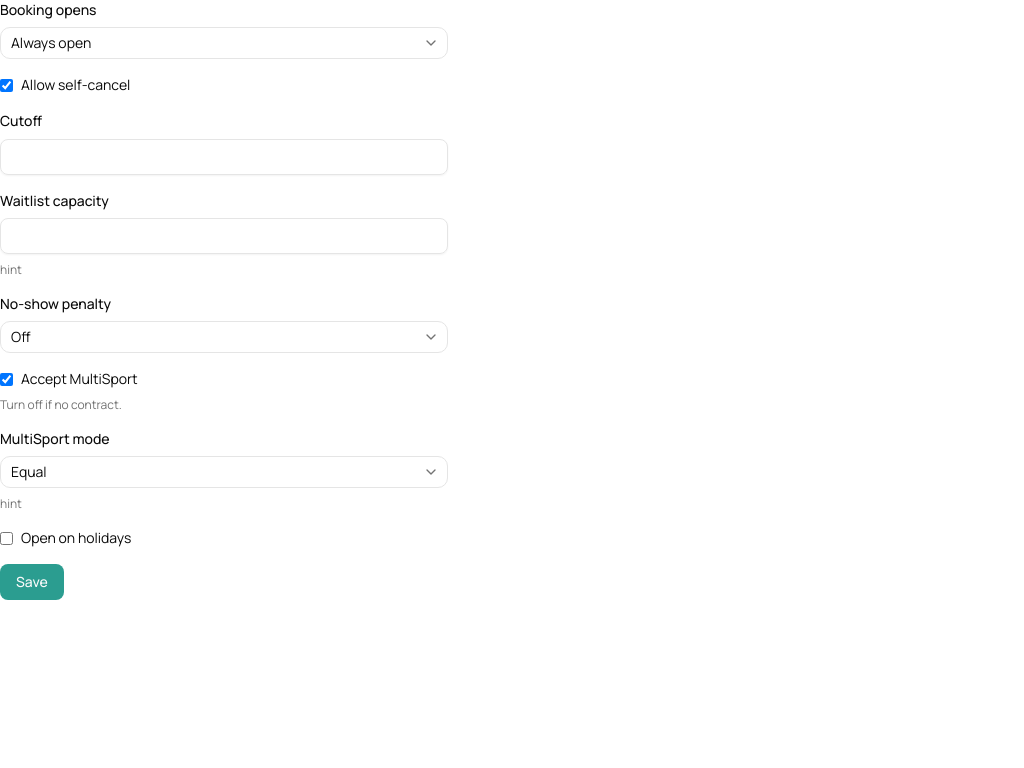
it: PoliciesForm MultiSport toggle › asks for confirmation before hiding the mode field, and does not act on the click alone
The width and height of the screenshot is (1024, 768).
Expected: the text "MultiSport mode" is shown, [0,429,110,448]
What coordinates should you click on to do the following:
click the checkbox labelled "Accept MultiSport"
I would click on:
 (6, 379)
Its box is [0,372,13,386].
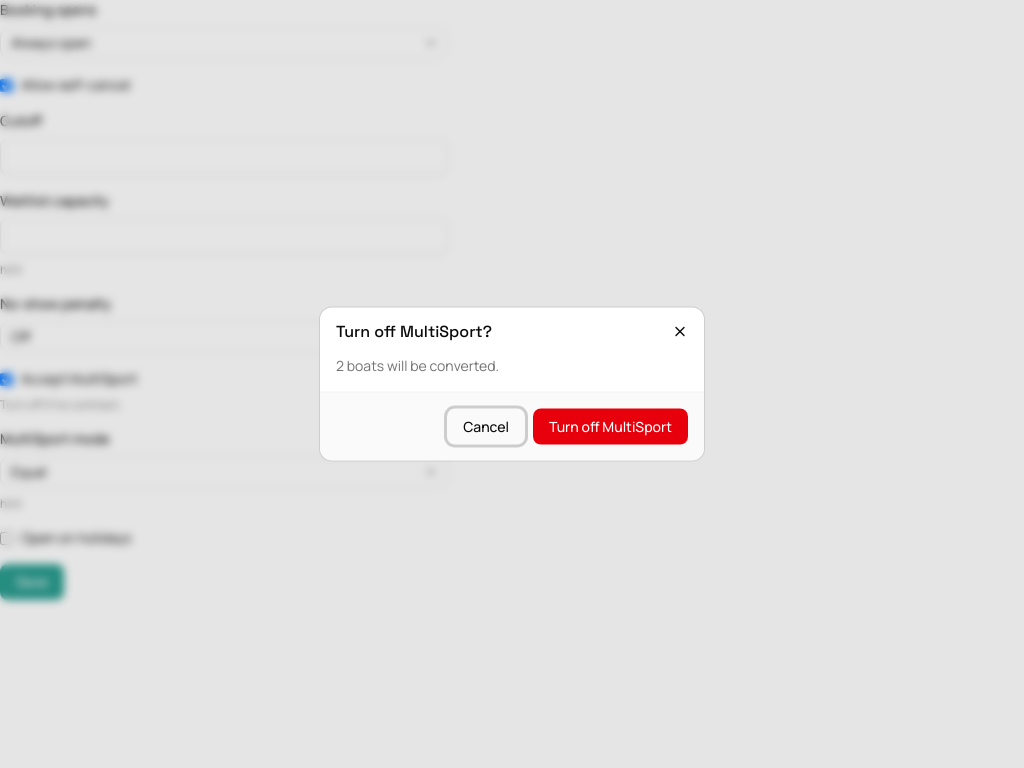
Expected: the text "MultiSport mode" is shown, [0,429,110,448]
Now the heading "Turn off MultiSport?" is shown, box [336,320,492,342]
